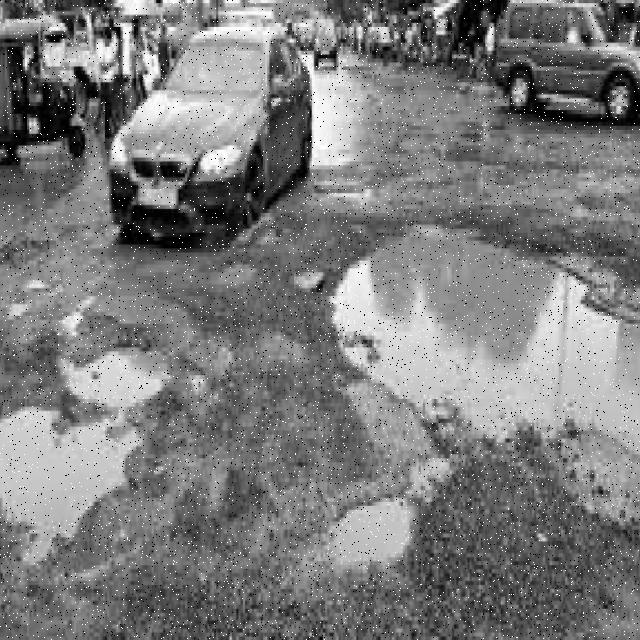pothole: (332, 237, 640, 457), (0, 348, 172, 561)
